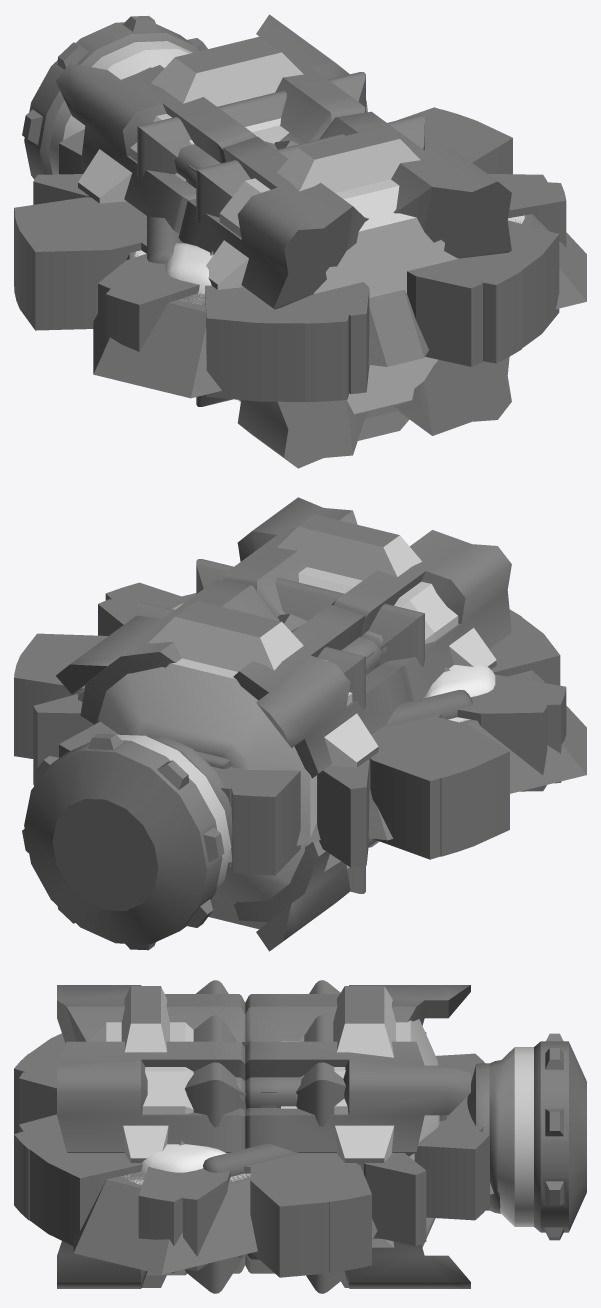
Rendered from Parts.fbx.
3 renders of one model, top to bottom at view 1: azimuth 30°, elevation 25°; view 2: azimuth 150°, elevation 25°; view 3: azimuth 270°, elevation 25°, orthographic. The views are drawn at different scales.
Visible parts, largest first — view 1: PumpJagged_Blue, PumpBlocky_Blue, Gear5_Blue, Gear8_Blue, PumpSmooth_Blue, Gear12_Blue, TriPyramid_Blue, TriCube_Blue, TriSphere_Blue; view 2: PumpJagged_Blue, PumpSmooth_Blue, PumpBlocky_Blue, Gear5_Blue, Gear8_Blue, Gear12_Blue, TriPyramid_Blue, TriSphere_Blue, TriCube_Blue; view 3: PumpJagged_Blue, PumpBlocky_Blue, Gear5_Blue, PumpSmooth_Blue, Gear8_Blue, TriPyramid_Blue, Gear12_Blue, TriSphere_Blue.
Boxes of the visible parts, <box> form: PumpJagged_Blue: <box>55,14,511,468</box>; PumpBlocky_Blue: <box>48,36,458,440</box>; Gear5_Blue: <box>14,107,559,401</box>; Gear8_Blue: <box>14,109,566,402</box>; PumpSmooth_Blue: <box>22,15,424,406</box>; Gear12_Blue: <box>33,100,547,393</box>; TriPyramid_Blue: <box>93,140,586,398</box>; TriCube_Blue: <box>134,251,428,366</box>; TriSphere_Blue: <box>134,215,524,304</box>; PumpJagged_Blue: <box>56,497,511,951</box>; PumpSmooth_Blue: <box>22,559,424,950</box>; PumpBlocky_Blue: <box>78,514,496,929</box>; Gear5_Blue: <box>14,614,560,859</box>; Gear8_Blue: <box>14,582,566,875</box>; Gear12_Blue: <box>33,599,547,867</box>; TriPyramid_Blue: <box>182,593,586,862</box>; TriSphere_Blue: <box>171,603,495,722</box>; TriCube_Blue: <box>368,720,468,840</box>; PumpJagged_Blue: <box>57,985,502,1288</box>; PumpBlocky_Blue: <box>89,986,533,1287</box>; Gear5_Blue: <box>24,1033,474,1277</box>; PumpSmooth_Blue: <box>185,980,586,1293</box>; Gear8_Blue: <box>14,1053,489,1272</box>; TriPyramid_Blue: <box>73,1041,493,1274</box>; Gear12_Blue: <box>19,1032,483,1270</box>; TriSphere_Blue: <box>124,1144,250,1184</box>.
Size of the model in its own units: 51.35 by 29.02 by 56.98.
